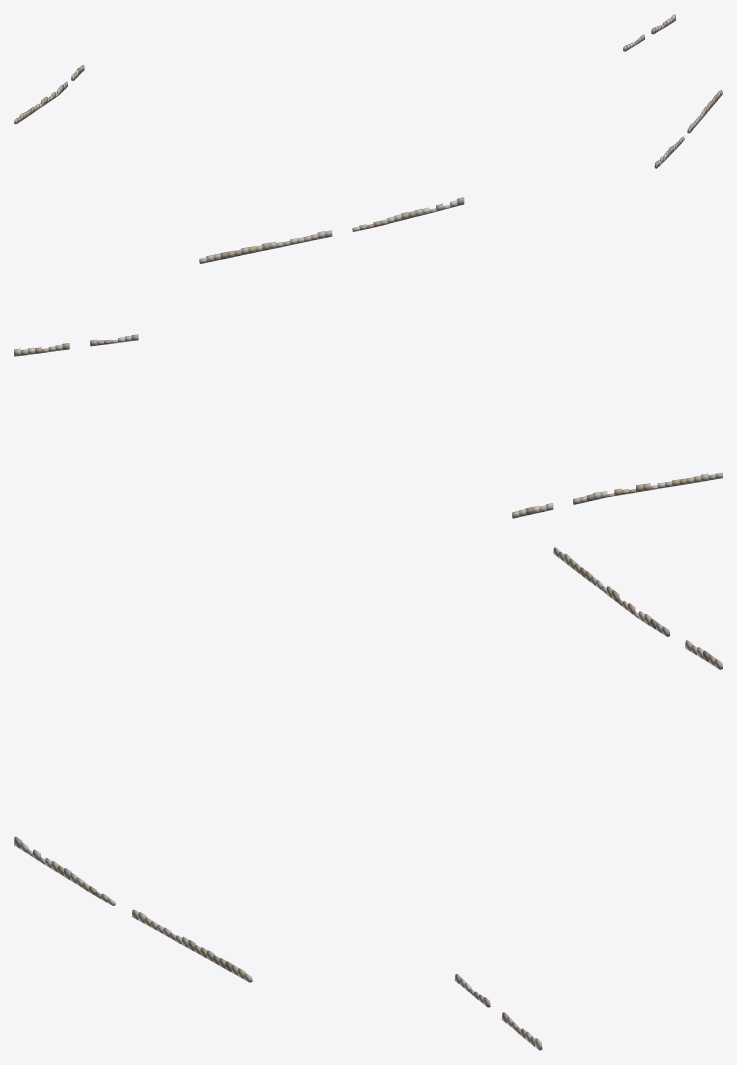
The model's file is farm_0_13_collision.glb.
3 views of the same model, one above another, from view 1: azimuth 30°, elevation 25°; view 2: azimuth 150°, elevation 25°; view 3: azimuth 270°, elevation 25° (orthographic). The views are drawn at different scales.
Parts seen in each view (by area): view 1: geometry_0; view 2: geometry_0; view 3: geometry_0.
Boxes of the visible parts, box(x1,y1,x2,y2) form: geometry_0: box(14, 14, 722, 168); geometry_0: box(14, 197, 722, 518); geometry_0: box(14, 547, 722, 1050).
Bounding box in the file's own units: 181 × 14.86 × 127.
